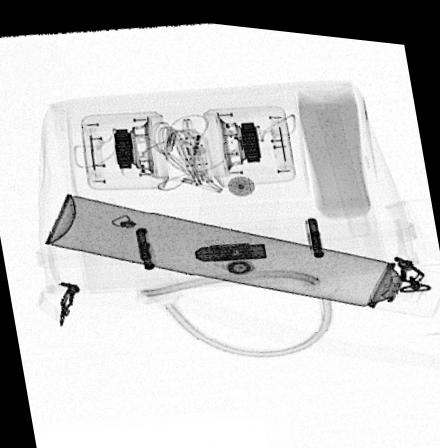Sprayer: (43, 192, 440, 307)
